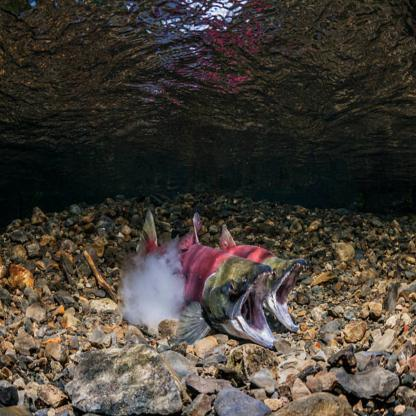sockeye: (115, 221, 304, 339)
